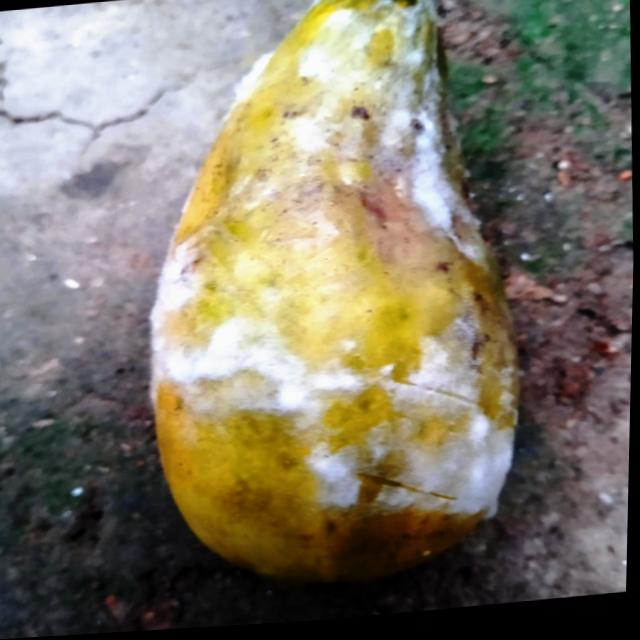Pythium-Fruit-Rot: (136, 0, 535, 556)
